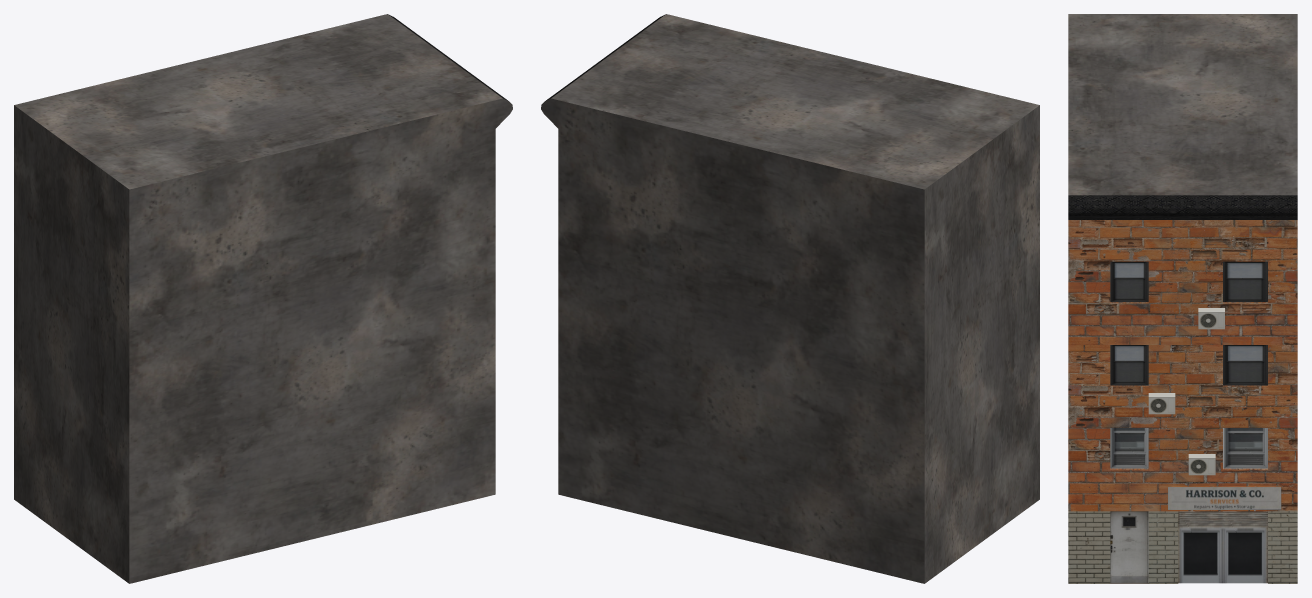
3 views of the same model, side by side, from view 1: azimuth 30°, elevation 25°; view 2: azimuth 150°, elevation 25°; view 3: azimuth 270°, elevation 25° (orthographic).
Visible parts, largest first — view 1: Apartment; view 2: Apartment; view 3: Apartment.
Boxes of the visible parts, <box> form: Apartment: <box>14,14,512,583</box>; Apartment: <box>541,14,1039,583</box>; Apartment: <box>1068,14,1297,583</box>.
Size of the model in its own units: 23.03 by 22.63 by 12.
Materials: 2 (2 with a texture image).
